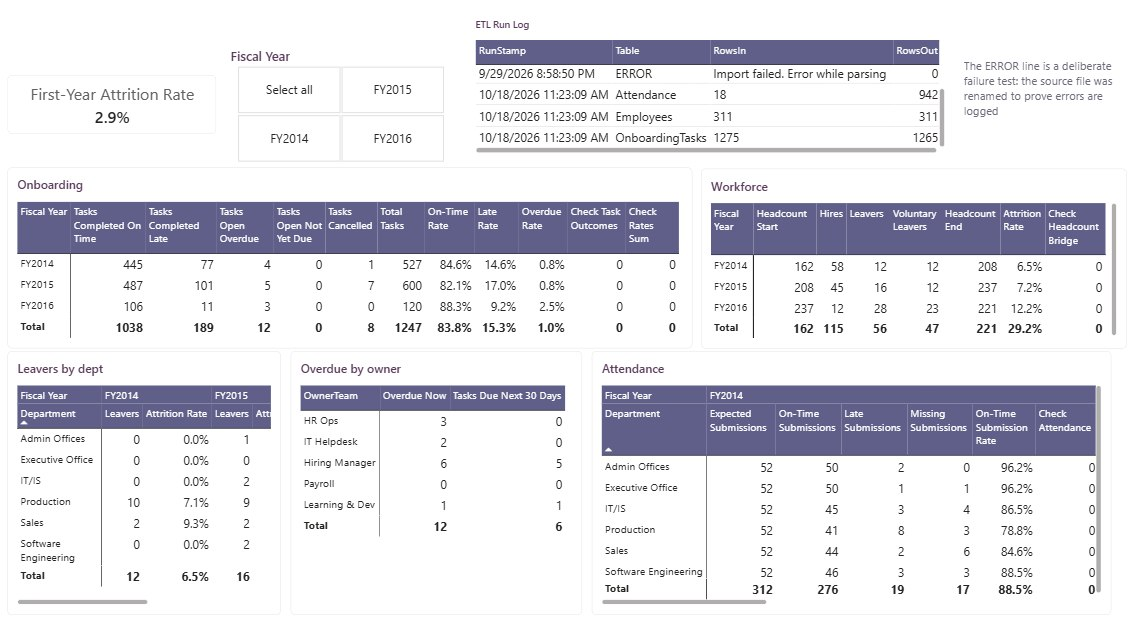

The dashboard page shown, as its layout file describes it:
{"tool":"powerbi","page":{"name":"QA Checks","canvas":[1920,1080],"ordinal":7},"visuals":[{"type":"pivotTable","title":"Leavers by dept","fields":{"Columns":["DimDate.Fiscal Year"],"Rows":["Departments.Department"],"Values":["_Measures.Leavers","_Measures.Attrition Rate"]},"box":[24,600,456,440],"z":0},{"type":"pivotTable","title":"Onboarding","fields":{"Rows":["DimDate.Fiscal Year"],"Values":["_Measures.Tasks Completed On Time","_Measures.Tasks Completed Late","_Measures.Tasks Open Overdue","_Measures.Tasks Open Not Yet Due","_Measures.Tasks Cancelled","_Measures.Total Tasks","_Measures.On-Time Rate","_Measures.Late Rate","_Measures.Overdue Rate","_Measures.Check Task Outcomes","_Measures.Check Rates Sum"]},"box":[24,294,1142,302],"z":1000},{"type":"pivotTable","title":"Workforce","fields":{"Rows":["DimDate.Fiscal Year"],"Values":["_Measures.Headcount Start","_Measures.Hires","_Measures.Leavers","_Measures.Voluntary Leavers","_Measures.Headcount End","_Measures.Attrition Rate","_Measures.Check Headcount Bridge"]},"box":[1180,296,710,300],"z":2000},{"type":"pivotTable","title":"Overdue by owner","fields":{"Rows":["OwnerTeams.OwnerTeam"],"Values":["_Measures.Overdue Now","_Measures.Tasks Due Next 30 Days"]},"box":[496,600,486,440],"z":3000},{"type":"pivotTable","title":"Attendance","fields":{"Columns":["DimDate.Fiscal Year"],"Rows":["Departments.Department"],"Values":["_Measures.Expected Submissions","_Measures.On-Time Submissions","_Measures.Late Submissions","_Measures.Missing Submissions","_Measures.On-Time Submission Rate","_Measures.Check Attendance"]},"box":[998,600,866,440],"z":4000},{"type":"cardVisual","fields":{"Data":["_Measures.First-Year Attrition Rate"]},"box":[24,140,348,98],"z":5000},{"type":"slicer","fields":{"Values":["DimDate.Fiscal Year"]},"box":[388,94,382,192],"z":6000},{"type":"tableEx","title":"ETL Run Log","fields":{"Values":["ETL_RunLog.RunStamp","ETL_RunLog.Table","ETL_RunLog.RowsIn","ETL_RunLog.RowsOut"]},"box":[788,30,814,256],"z":7000},{"type":"textbox","box":[1618,112,272,118],"z":8000}]}

Visuals, with their boxes in screenshot pixels (x1, y1, x2, y2), scaled from the page's 1920x1080 canvas onto the 1137x638 screenshot:
"Leavers by dept" pivotTable: (left=14, top=354, right=284, bottom=614)
"Onboarding" pivotTable: (left=14, top=174, right=690, bottom=352)
"Workforce" pivotTable: (left=699, top=175, right=1119, bottom=352)
"Overdue by owner" pivotTable: (left=294, top=354, right=582, bottom=614)
"Attendance" pivotTable: (left=591, top=354, right=1104, bottom=614)
cardVisual - _Measures.First-Year Attrition Rate: (left=14, top=83, right=220, bottom=141)
slicer - DimDate.Fiscal Year: (left=230, top=56, right=456, bottom=169)
"ETL Run Log" tableEx: (left=467, top=18, right=949, bottom=169)
textbox: (left=958, top=66, right=1119, bottom=136)
